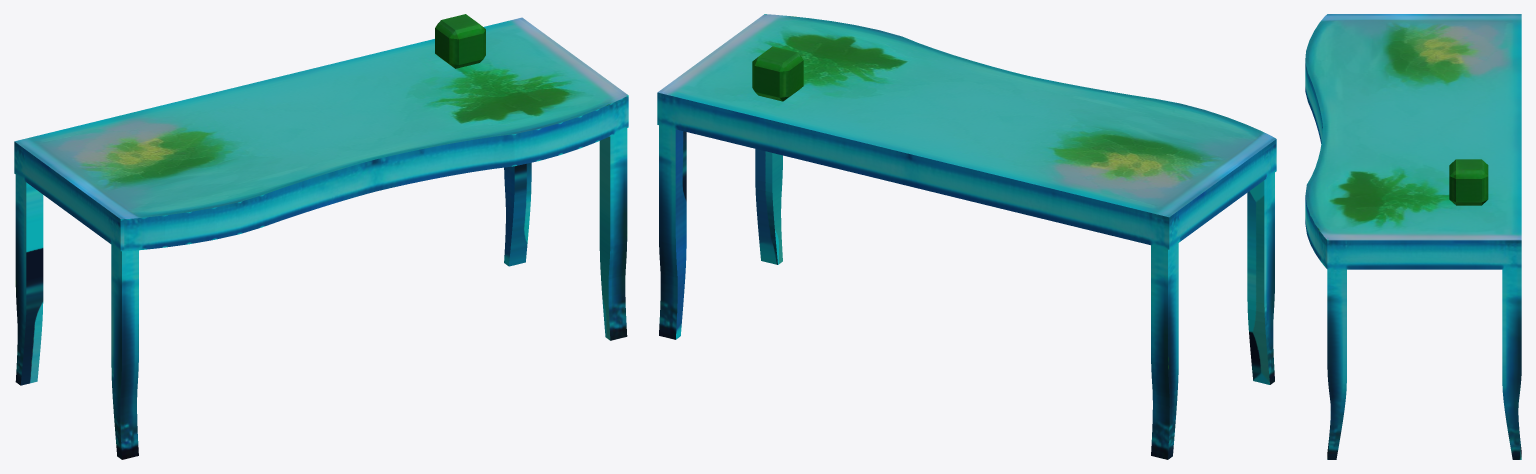
Rendered from edited_mesh.glb.
The picture shows the model from 3 angles, left to right: view 1: azimuth 30°, elevation 25°; view 2: azimuth 150°, elevation 25°; view 3: azimuth 270°, elevation 25°; orthographic projection. The views are drawn at different scales.
Visible parts, largest first — view 1: solid_001_wire; view 2: solid_001_wire; view 3: solid_001_wire.
Part boxes in pixels (left/top/right/bottom): solid_001_wire: left=14, top=14, right=628, bottom=459; solid_001_wire: left=657, top=14, right=1276, bottom=459; solid_001_wire: left=1305, top=14, right=1521, bottom=459.
Size of the model in its own units: 1.95 by 1.03 by 0.7881.
Materials: 1 (1 with a texture image).
